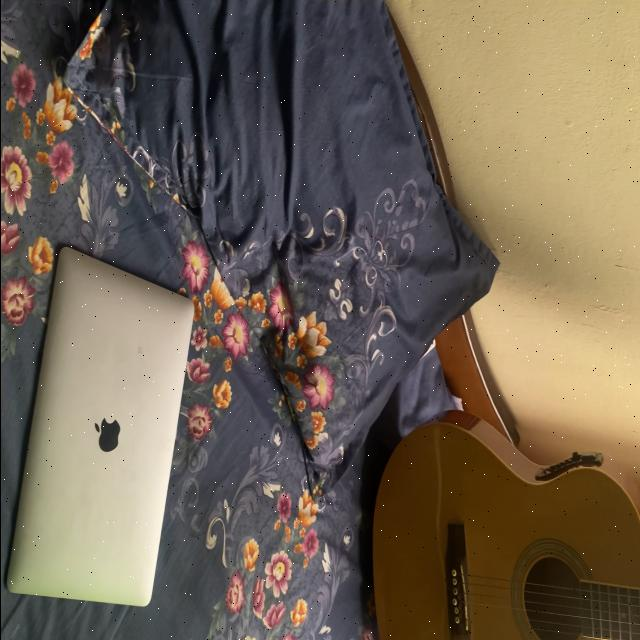guitar: (373, 342, 640, 636)
laptop: (8, 224, 200, 640)
